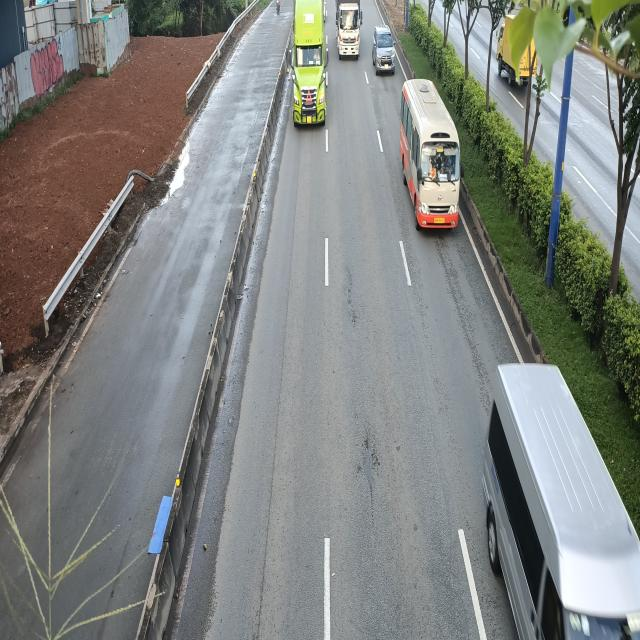car: (373, 26, 397, 76)
coach: (398, 79, 462, 232)
container: (287, 1, 327, 128), (336, 0, 362, 58)
van: (485, 366, 640, 640)
